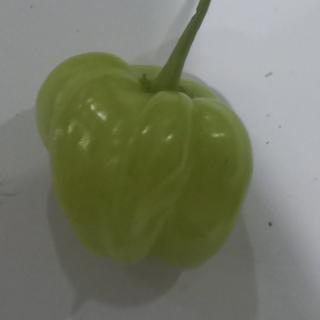Grade-B: (29, 44, 257, 271)
